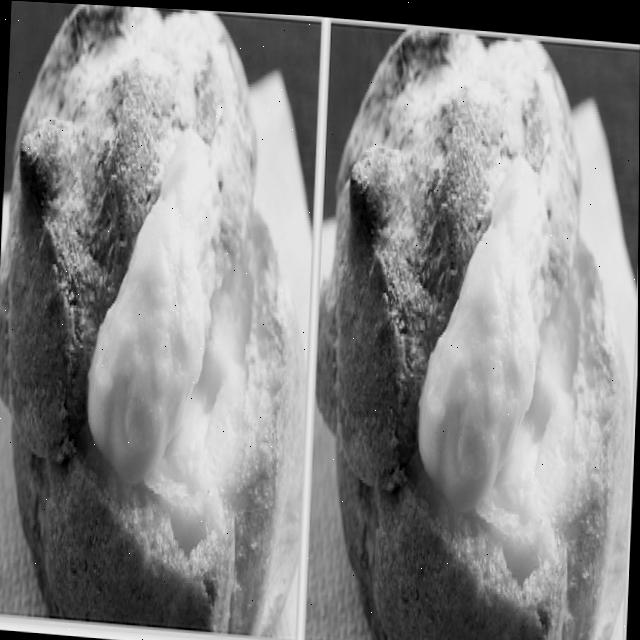炸货点心: (0, 3, 640, 640)
蛋糕甜品: (0, 3, 640, 640)
